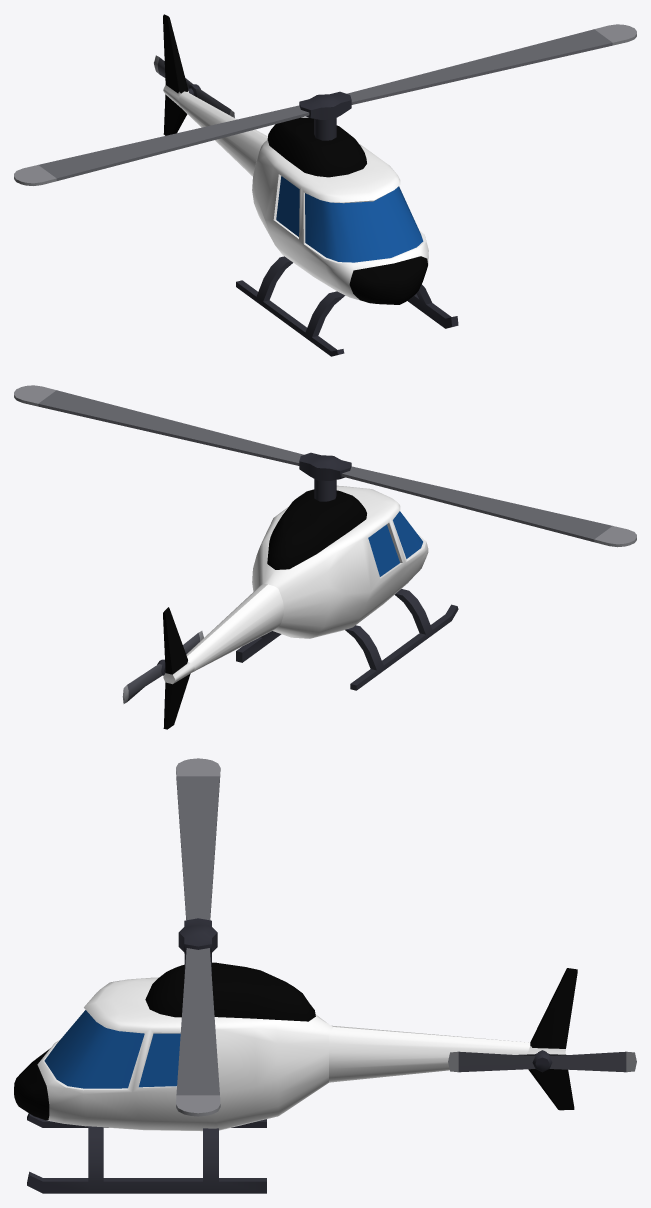
File: Racing_Helicopter.fbx
The picture shows the model from 3 angles, top to bottom: view 1: azimuth 30°, elevation 25°; view 2: azimuth 150°, elevation 25°; view 3: azimuth 270°, elevation 25°; orthographic projection. The views are drawn at different scales.
Parts seen in each view (by area): view 1: helicopter, blades, tail_rotor; view 2: helicopter, blades, tail_rotor; view 3: helicopter, blades, tail_rotor.
Part boxes in pixels (x1=…): helicopter: x1=163, y1=14, x2=458, y2=356; blades: x1=14, y1=24, x2=636, y2=185; tail_rotor: x1=154, y1=55, x2=234, y2=117; helicopter: x1=163, y1=485, x2=458, y2=729; blades: x1=14, y1=385, x2=636, y2=547; tail_rotor: x1=122, y1=631, x2=203, y2=703; helicopter: x1=14, y1=962, x2=577, y2=1193; blades: x1=176, y1=758, x2=220, y2=1116; tail_rotor: x1=448, y1=1050, x2=636, y2=1072.
Size of the model in its own units: 1295 by 391 by 961.
